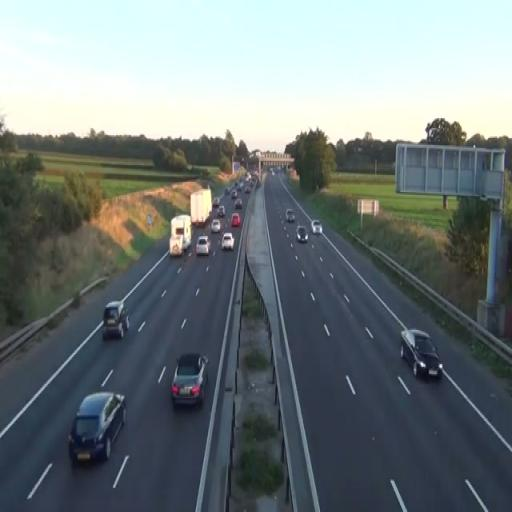Car: (68, 390, 127, 464), (400, 328, 442, 380), (171, 352, 209, 409), (102, 300, 130, 340), (196, 235, 210, 256), (222, 233, 234, 251), (230, 212, 242, 226), (218, 204, 225, 218), (212, 220, 220, 232)
Truck: (170, 216, 192, 256), (190, 188, 212, 227)
